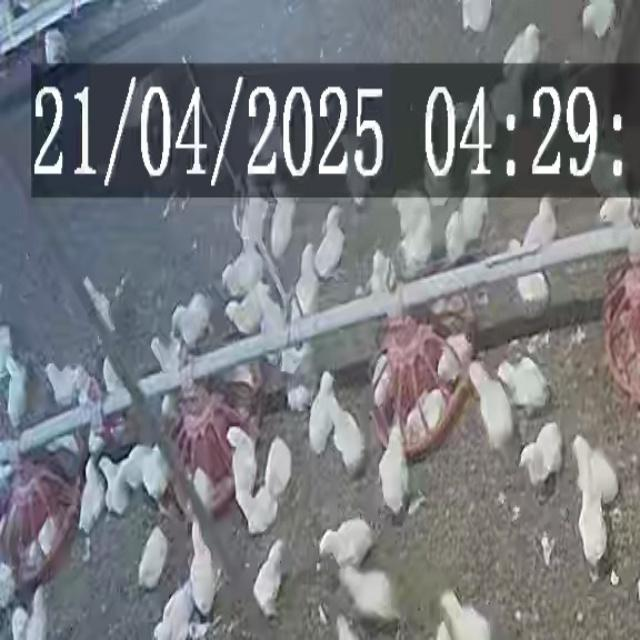chicken: (331, 558, 402, 624), (472, 362, 514, 452), (575, 480, 616, 569), (393, 196, 435, 272), (378, 424, 413, 513), (518, 421, 564, 488), (572, 437, 616, 505), (318, 516, 375, 568), (329, 395, 365, 477), (189, 520, 220, 610), (499, 356, 549, 410), (404, 387, 447, 447), (254, 538, 286, 618), (526, 191, 562, 260), (226, 429, 257, 508), (584, 151, 632, 202), (170, 292, 213, 347), (154, 585, 197, 638), (313, 210, 346, 279), (308, 371, 336, 452), (503, 22, 544, 77), (222, 246, 264, 299), (489, 63, 526, 123), (260, 437, 293, 501), (513, 259, 551, 313), (439, 600, 491, 639), (77, 459, 106, 528), (4, 355, 32, 426), (440, 326, 475, 382), (139, 524, 169, 587), (295, 243, 321, 314), (43, 362, 83, 407), (371, 348, 399, 411), (40, 496, 66, 563), (139, 443, 170, 499), (104, 456, 132, 516), (270, 198, 298, 256), (246, 486, 279, 535), (24, 588, 49, 638), (598, 196, 634, 229), (444, 211, 466, 260)
